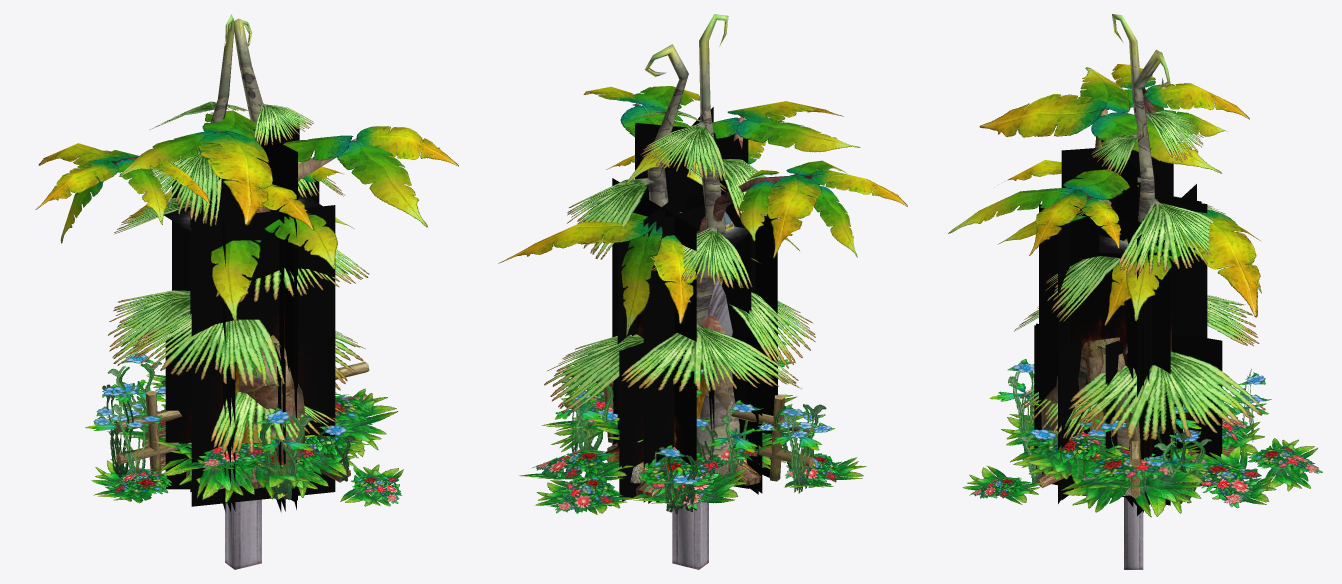
File: scenery.glb
3 renders of one model, left to right at view 1: azimuth 30°, elevation 25°; view 2: azimuth 150°, elevation 25°; view 3: azimuth 270°, elevation 25°, orthographic. The views are drawn at different scales.
Visible parts, largest first — view 1: parte_0 (×7); view 2: parte_0 (×8); view 3: parte_0 (×8).
Part boxes in pixels (x1,y1,x2,y2): parte_0 (×7): (35, 14, 458, 569); parte_0 (×8): (498, 14, 907, 569); parte_0 (×8): (948, 14, 1322, 569).
Size of the model in its own units: 7.93 by 10.75 by 6.89.
14 materials, 14 textured.
